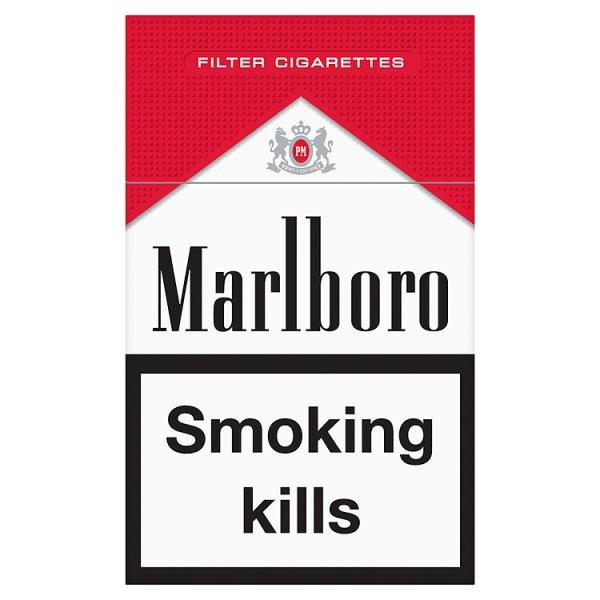marlboro_red: (127, 17, 475, 584)
